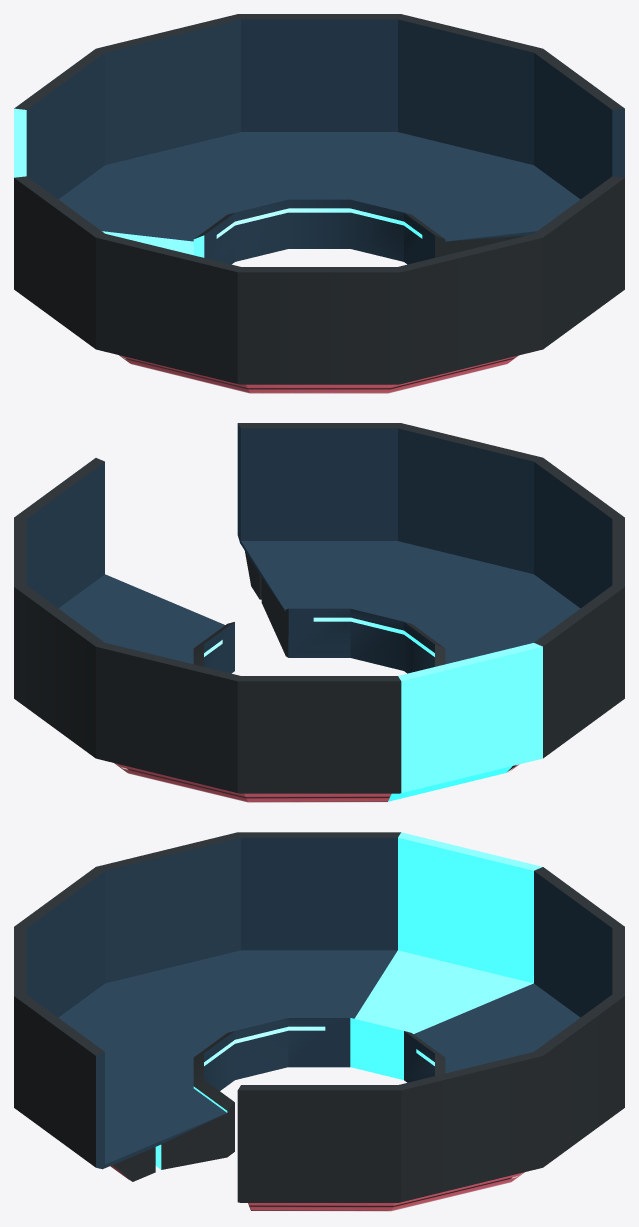
Rendered from Aero_Station_YellowRing_Art.glb.
3 views of the same model, one above another, from view 1: azimuth 30°, elevation 25°; view 2: azimuth 150°, elevation 25°; view 3: azimuth 270°, elevation 25° (orthographic).
Visible parts, largest first — view 1: Aero_Station_YellowRing_Art; view 2: Aero_Station_YellowRing_Art; view 3: Aero_Station_YellowRing_Art.
Boxes of the visible parts, x1,y1,x2,y2 form: Aero_Station_YellowRing_Art: (14, 14, 624, 393); Aero_Station_YellowRing_Art: (14, 423, 624, 802); Aero_Station_YellowRing_Art: (14, 832, 624, 1211).
Size of the model in its own units: 10.88 by 3.09 by 10.88.
Materials: 5 (2 with a texture image).
